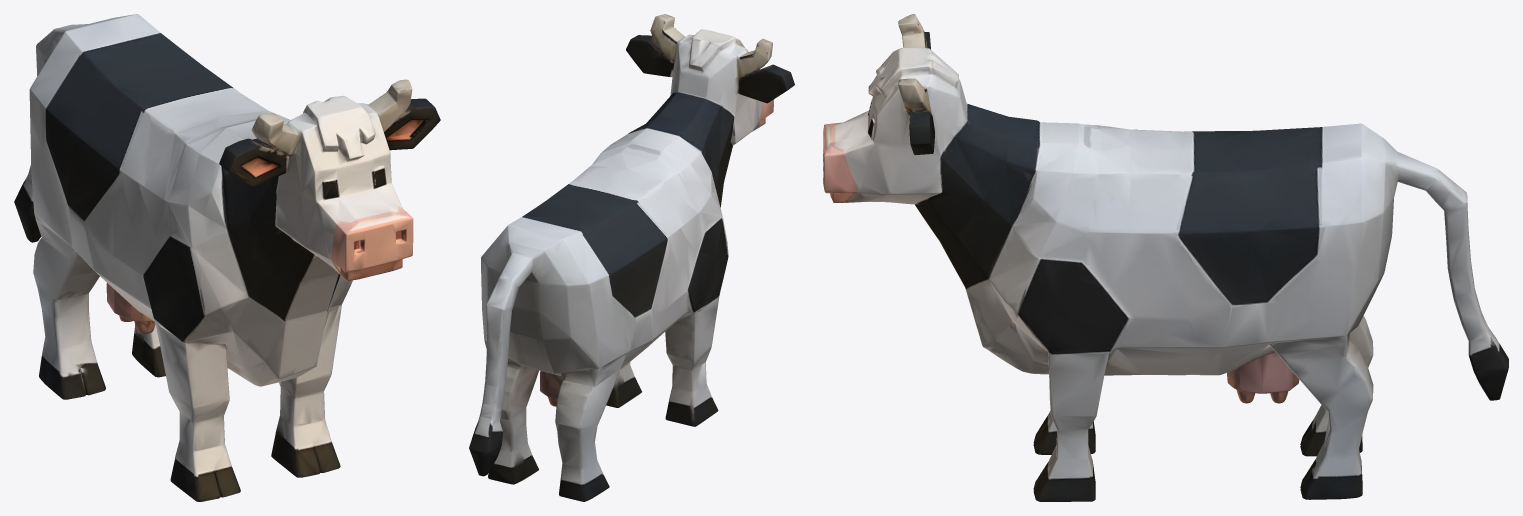
File: cow.glb
3 renders of one model, left to right at view 1: azimuth 30°, elevation 25°; view 2: azimuth 150°, elevation 25°; view 3: azimuth 270°, elevation 25°, orthographic. The views are drawn at different scales.
Parts seen in each view (by area): view 1: node_0; view 2: node_0; view 3: node_0.
Part boxes in pixels (<box>): node_0: <box>14,14,440,501</box>; node_0: <box>469,14,794,501</box>; node_0: <box>823,14,1508,501</box>.
Size of the model in its own units: 0.3865 by 0.7566 by 1.12.
1 material, 1 textured.
